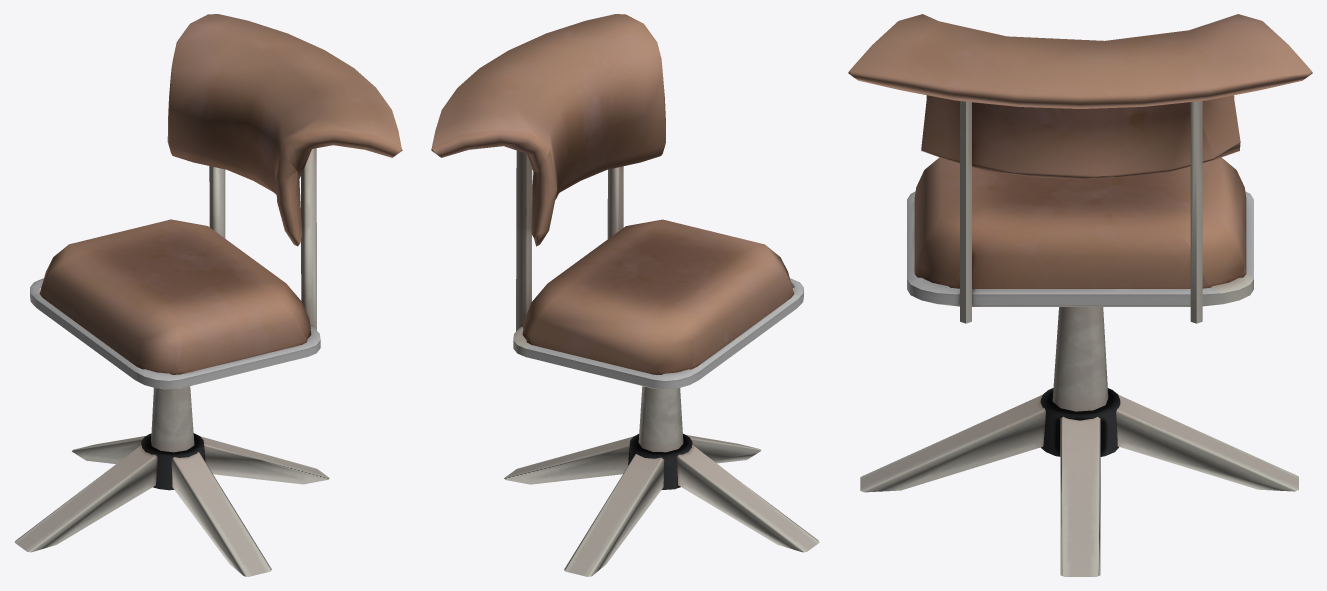
The model's file is Office_chair_LOD1.fbx.
3 renders of one model, left to right at view 1: azimuth 30°, elevation 25°; view 2: azimuth 150°, elevation 25°; view 3: azimuth 270°, elevation 25°, orthographic. The views are drawn at different scales.
Visible parts, largest first — view 1: pasted__Office_chair_LOD1; view 2: pasted__Office_chair_LOD1; view 3: pasted__Office_chair_LOD1.
Part boxes in pixels (x1=…): pasted__Office_chair_LOD1: x1=14, y1=14, x2=402, y2=576; pasted__Office_chair_LOD1: x1=431, y1=14, x2=819, y2=576; pasted__Office_chair_LOD1: x1=848, y1=14, x2=1312, y2=576.
Bounding box in the file's own units: 83.38 × 98.72 × 79.69.
Materials: 1 (1 with a texture image).
